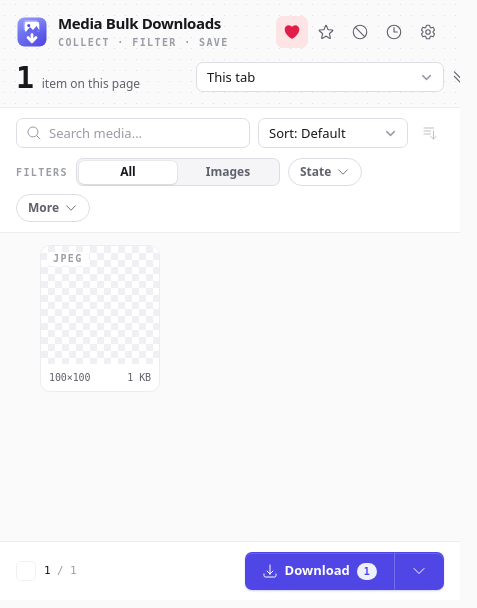
Test: App Component › reports a download error from the background
Expected: the text "Filters" is shown, [16,165,68,180]
Click the button "Download 1": (319, 571) [245,552,394,590]
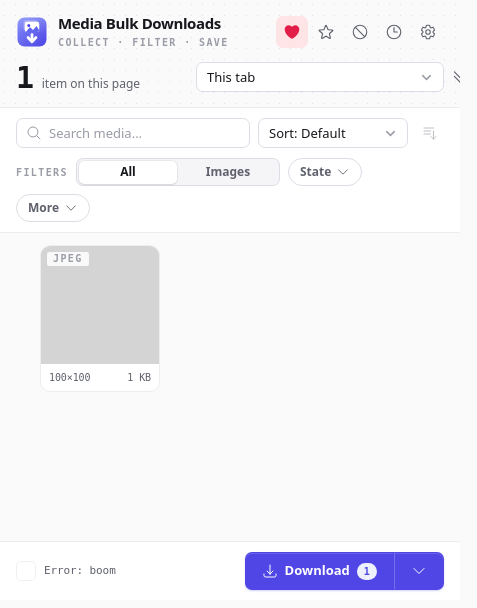
Now the text "Error: boom" is shown, box [44,563,116,579]
